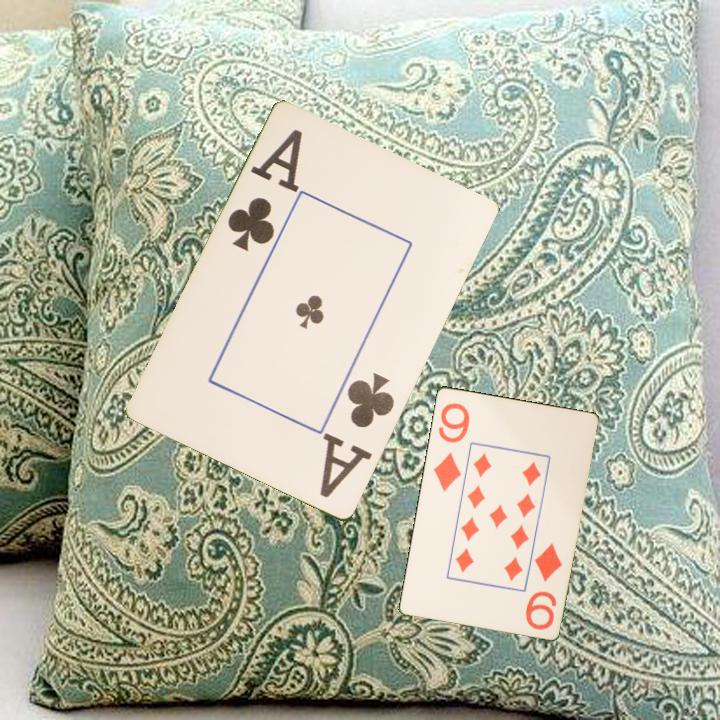9d: (429, 399, 472, 494), (522, 539, 565, 633)
Ac: (316, 369, 398, 502), (224, 126, 306, 255)
